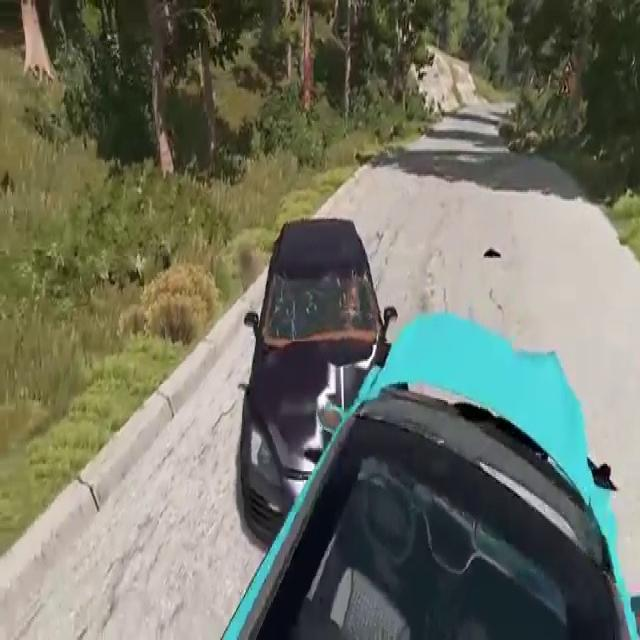moderate: (203, 195, 640, 640)
